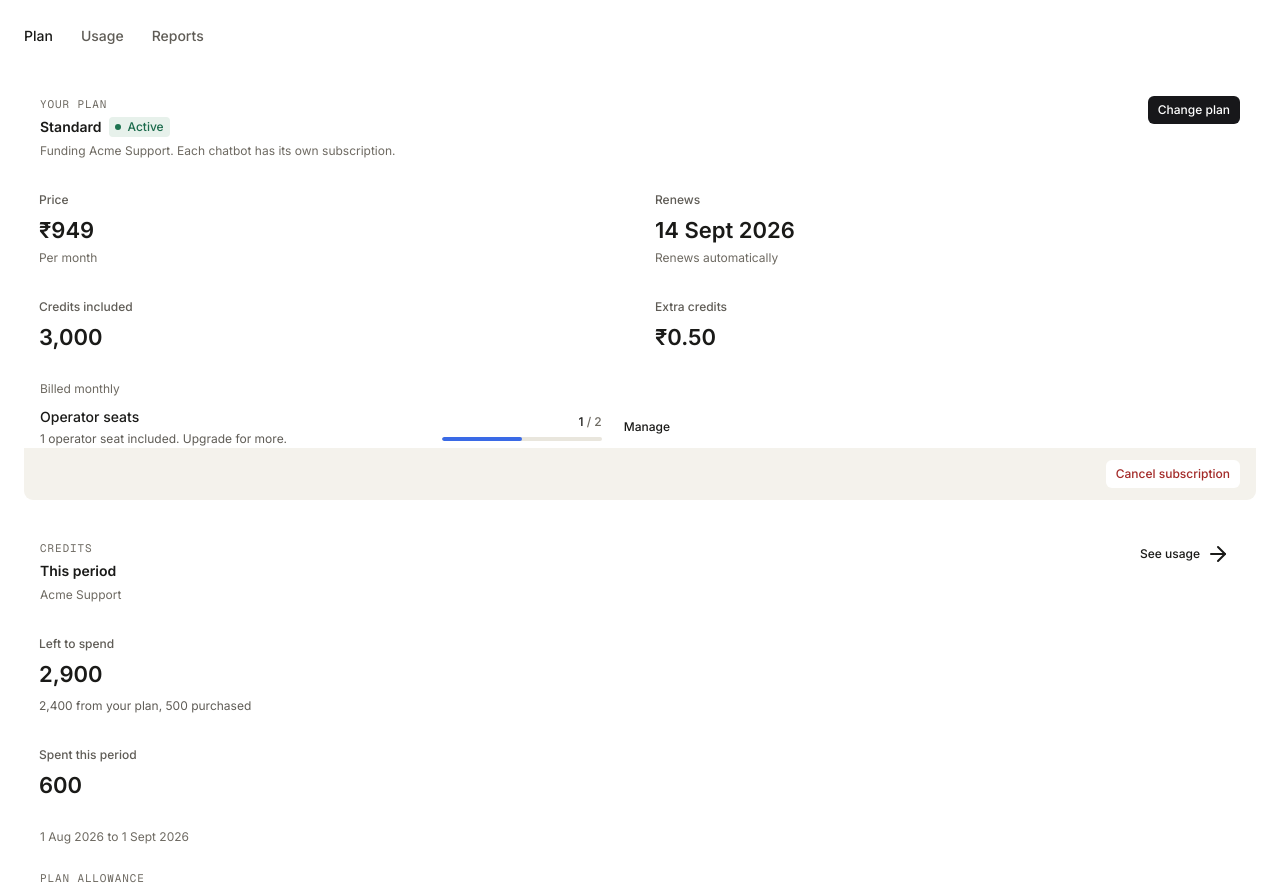
the plan summary › lets the scoped chatbot give back a seat its own roster is not using
The width and height of the screenshot is (1280, 896).
Expected: the text "Standard" is shown, x1=40 y1=118 x2=102 y2=135
Step 1. Click the button "Manage" → (647, 427), box x1=614 y1=413 x2=680 y2=441
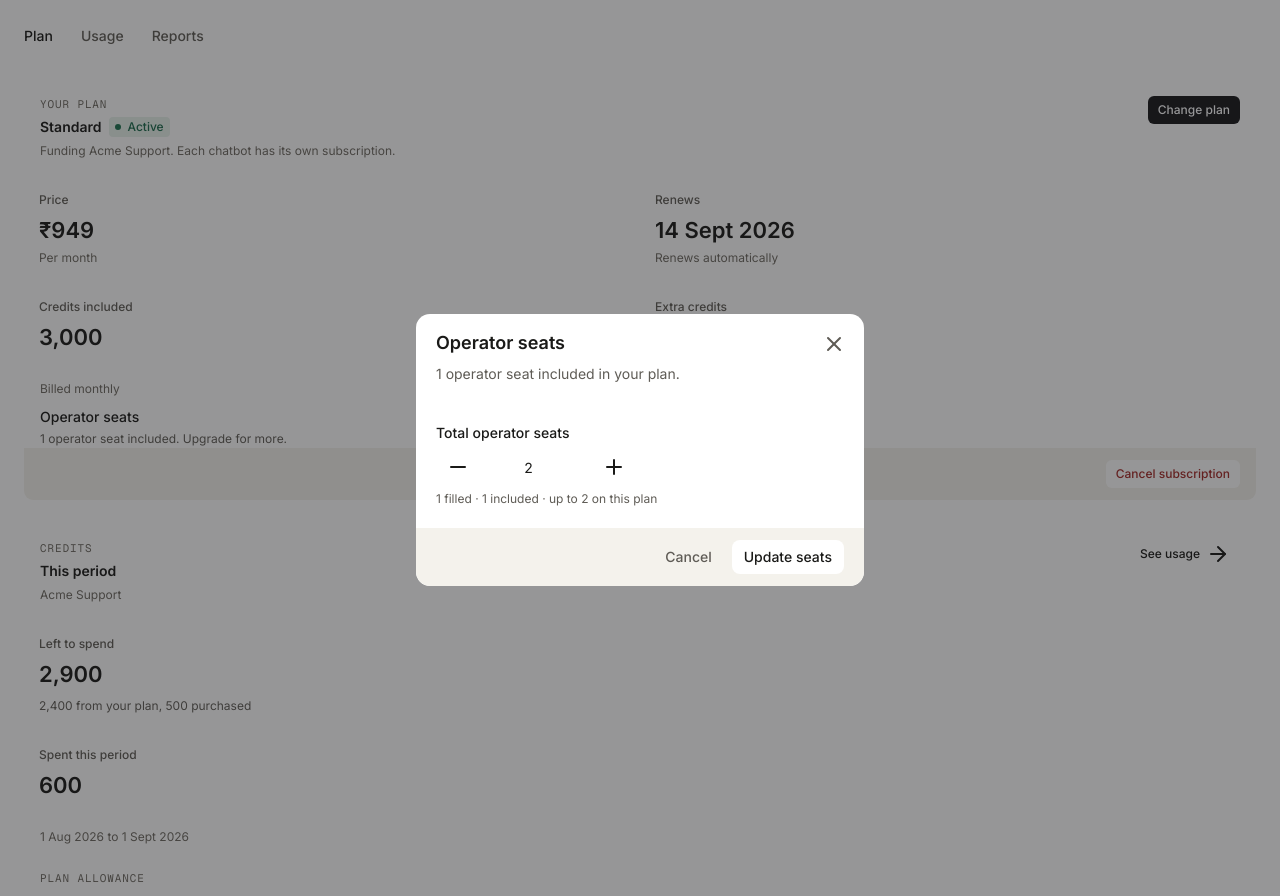
Expected: the text "1 filled · 1 included · up to 2 on this plan" is shown, x1=436 y1=491 x2=657 y2=506
Step 2. Replace the text in the number field with "1" → (536, 467), box x1=488 y1=450 x2=584 y2=484
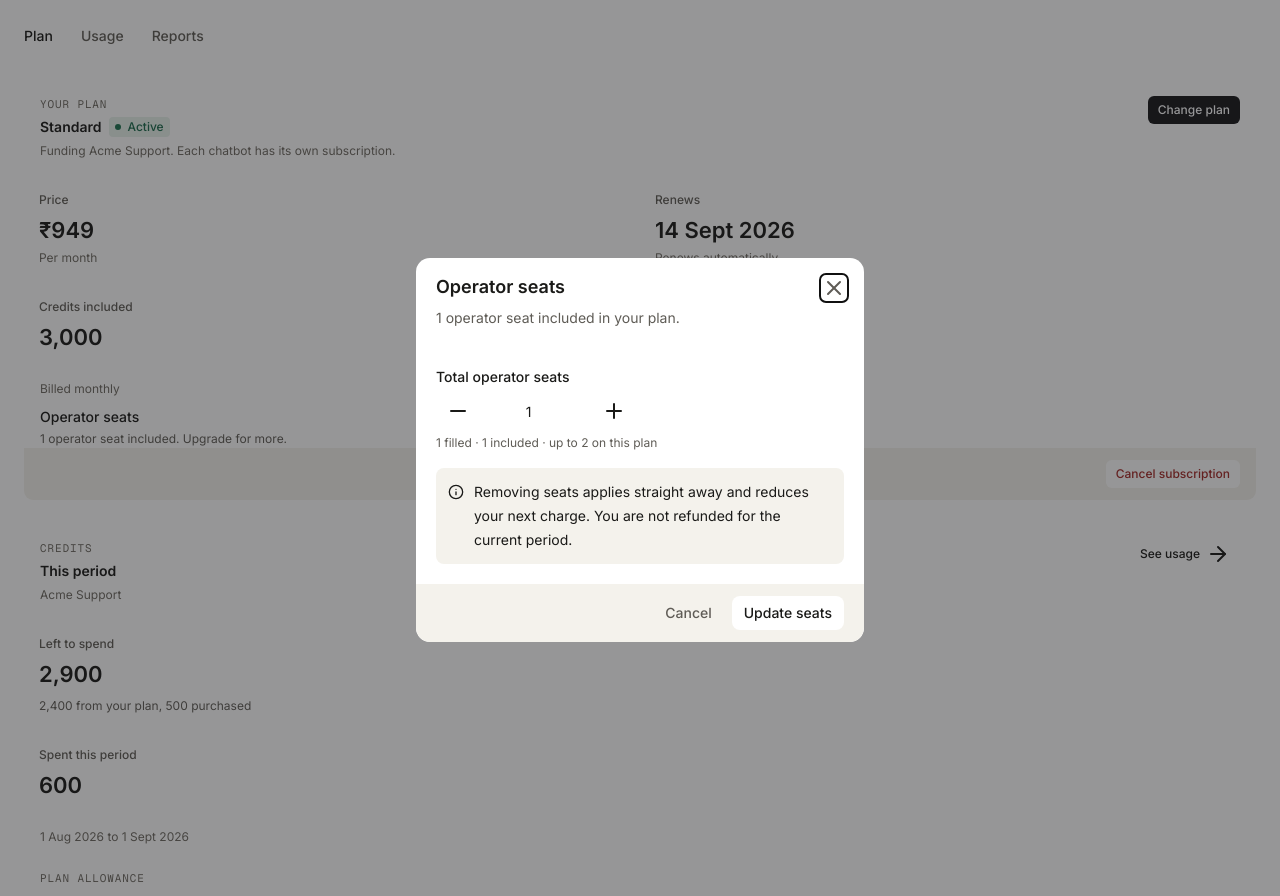
Expected: the button "Update seats" is enabled, x1=732 y1=596 x2=844 y2=630
